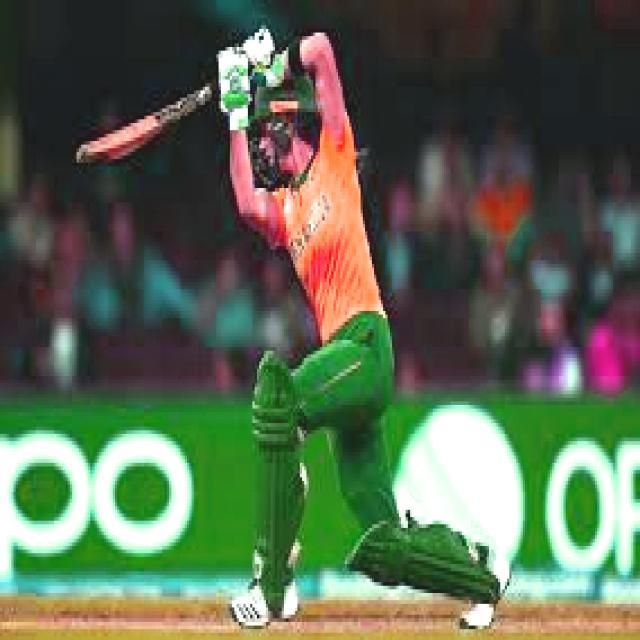bat: (53, 86, 225, 184)
toe: (64, 145, 109, 173)
